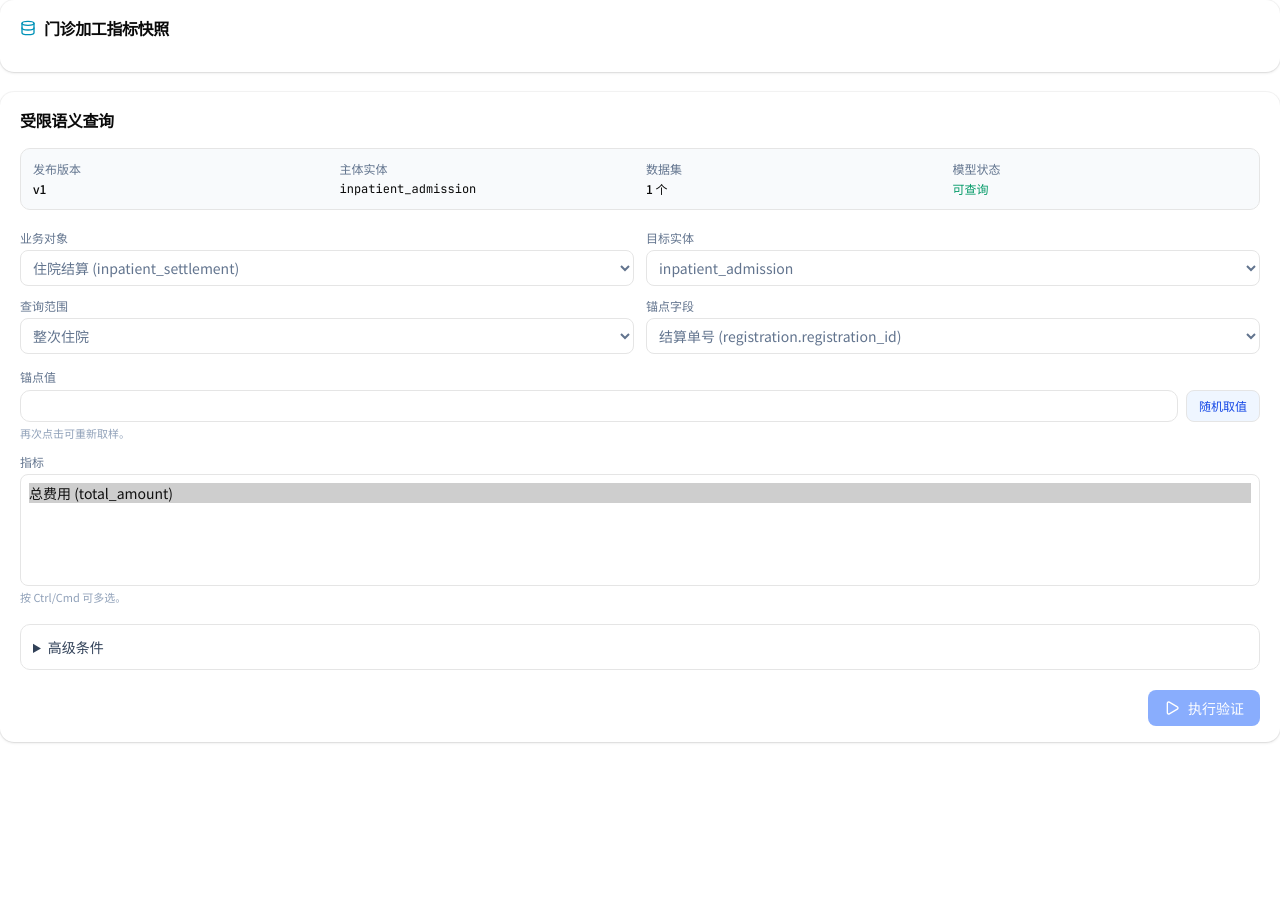
Test case: SemanticQueryPage › fills the anchor only after an explicit random sample request
Expected: the dropdown labelled "锚点字段" shows "结算单号 (registration.registration_id)", top-left (646, 318), bottom-right (1260, 354)
Expected: the field labelled "锚点值" is empty, top-left (20, 390), bottom-right (1178, 422)
Click the button "随机取值": (1223, 406) top-left (1186, 390), bottom-right (1260, 422)
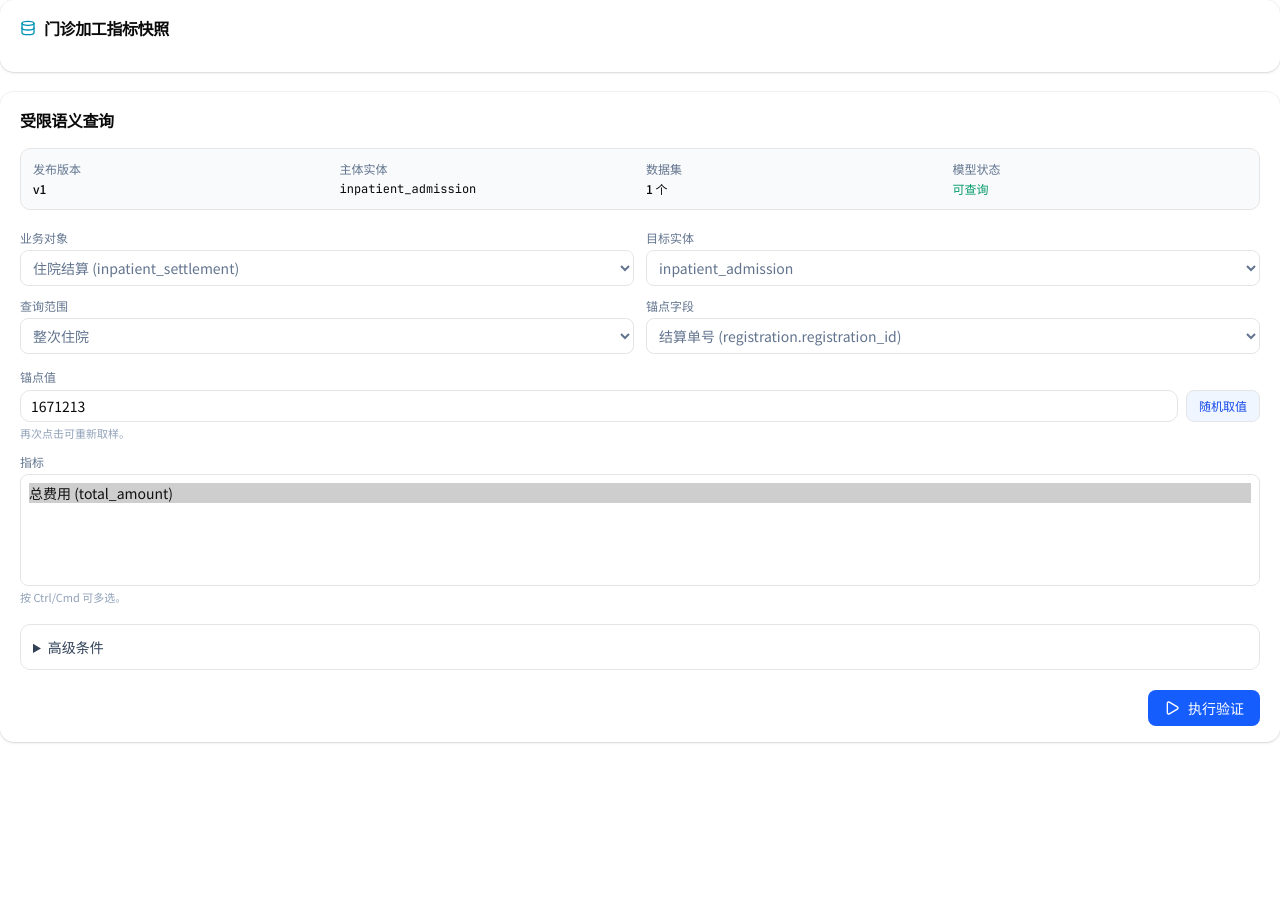
Expected: the text "再次点击可重新取样。" is shown, top-left (20, 425), bottom-right (130, 441)
Expected: the field labelled "锚点值" holds "1671213", top-left (20, 390), bottom-right (1178, 422)
